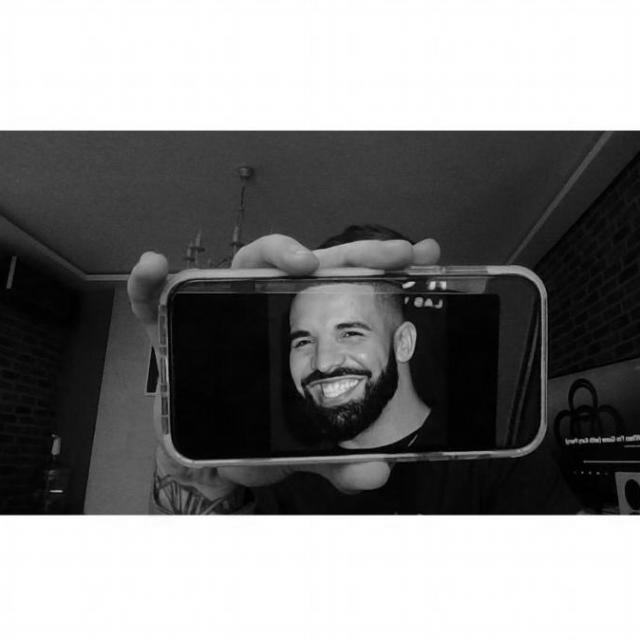fake: (144, 256, 552, 478)
